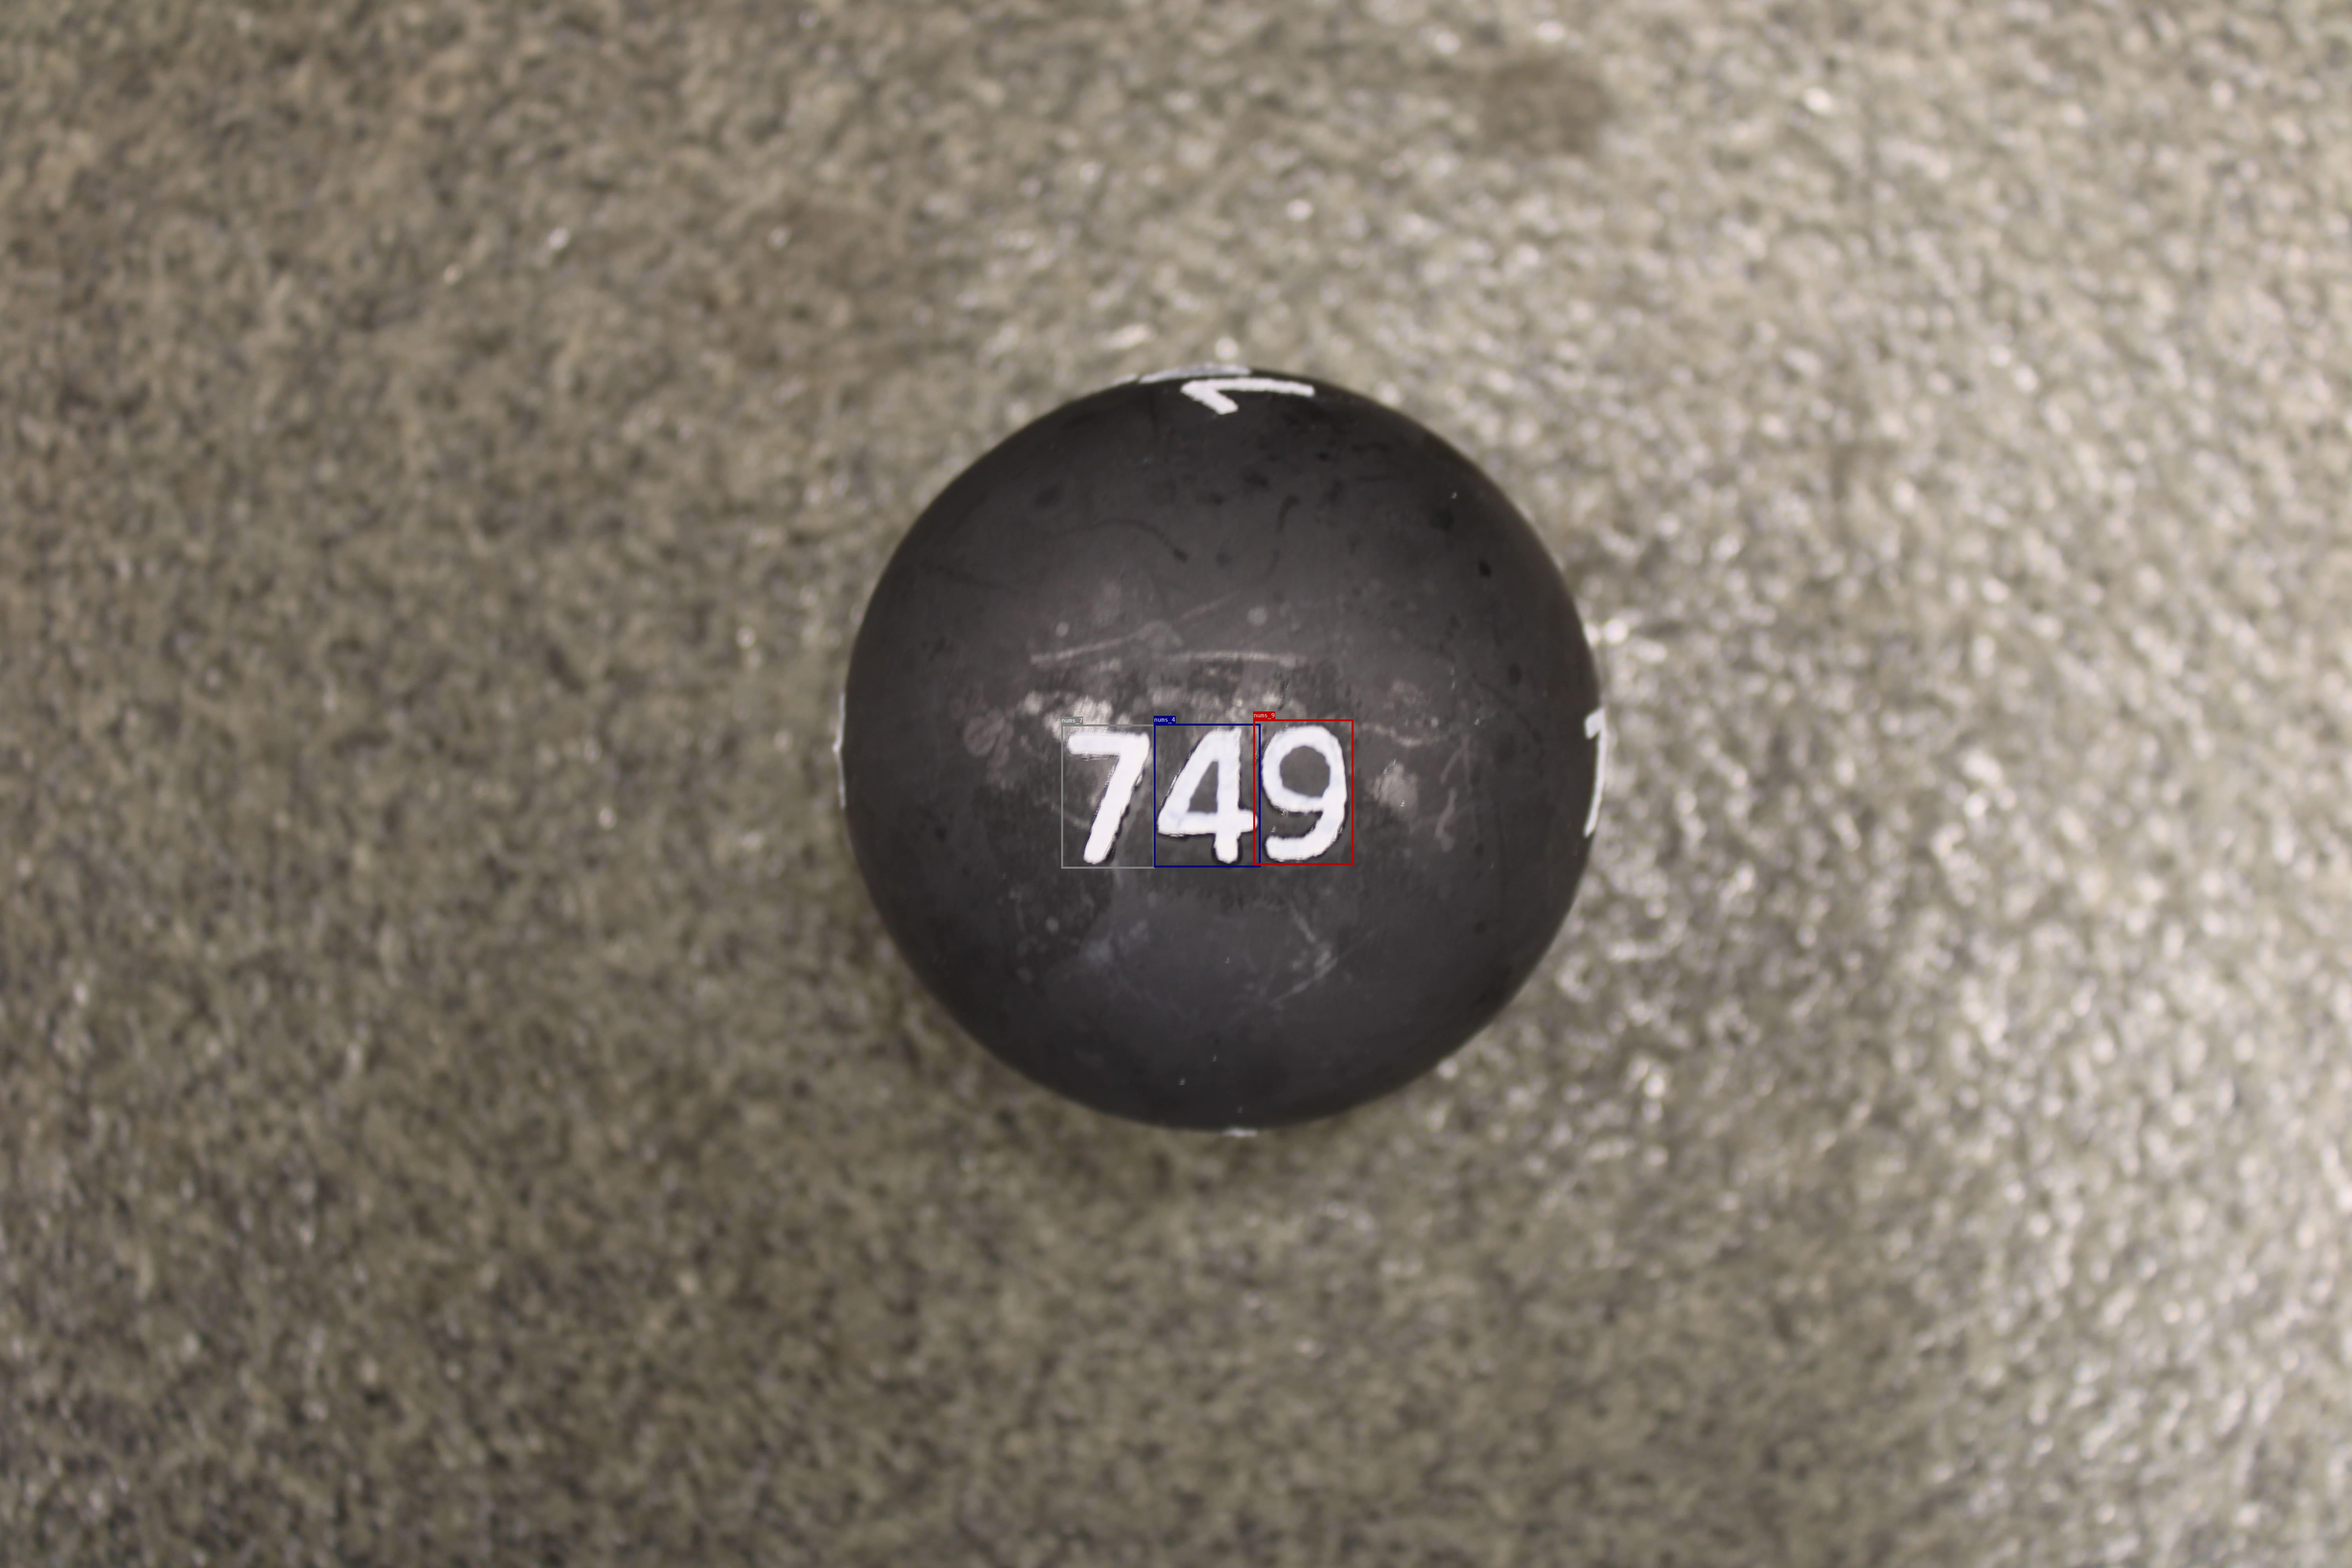nums_4: (1153, 724, 1260, 866)
nums_7: (1061, 724, 1155, 868)
nums_9: (1253, 719, 1353, 865)
